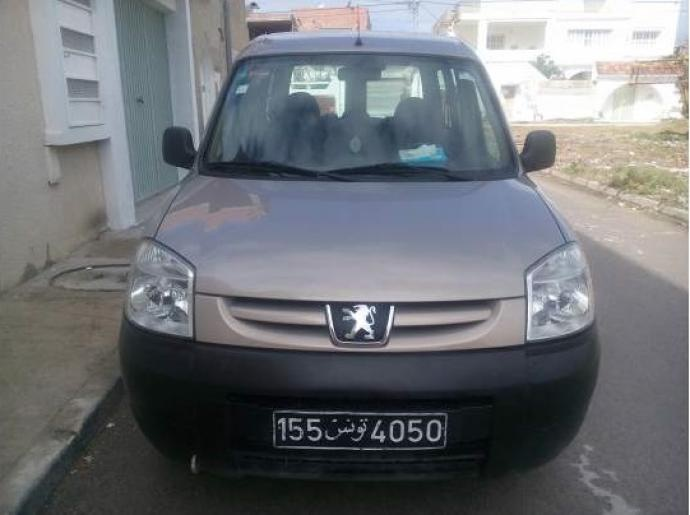LP: (269, 404, 451, 457)
